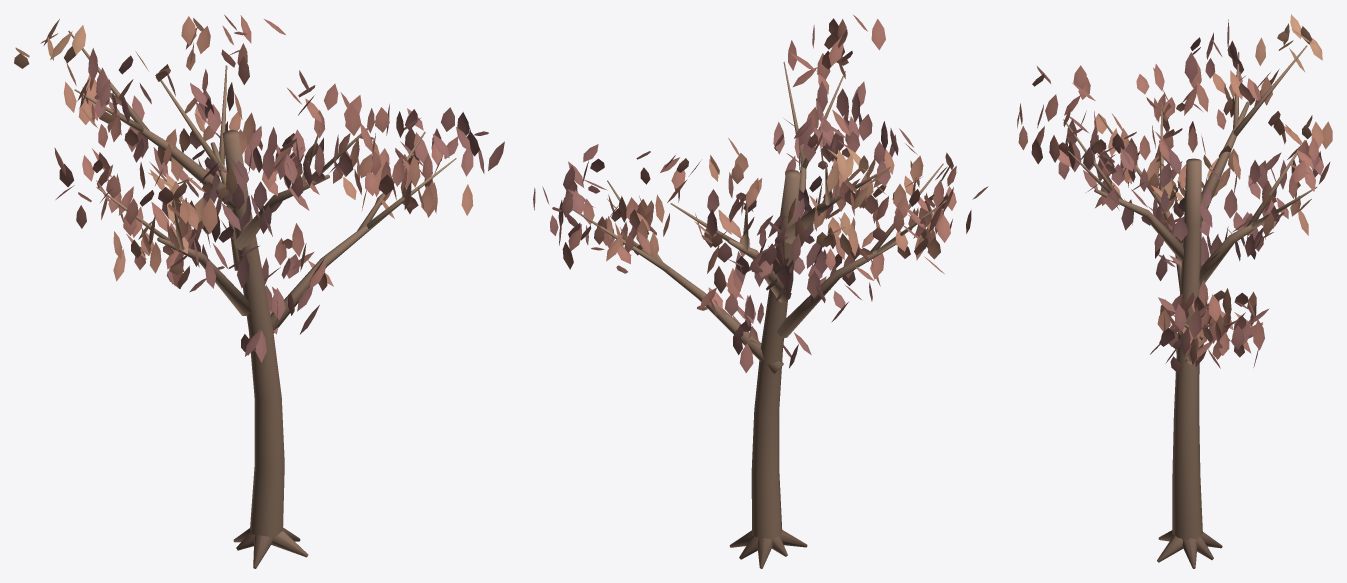
File: tree_3d_06_red.glb
3 renders of one model, left to right at view 1: azimuth 30°, elevation 25°; view 2: azimuth 150°, elevation 25°; view 3: azimuth 270°, elevation 25°, orthographic. The views are drawn at different scales.
Parts seen in each view (by area): view 1: tree_3d_06_red_foliage, tree_3d_06_red_wood; view 2: tree_3d_06_red_foliage, tree_3d_06_red_wood; view 3: tree_3d_06_red_foliage, tree_3d_06_red_wood.
Boxes of the visible parts, x1,y1,x2,y2 form: tree_3d_06_red_foliage: (14, 14, 504, 362); tree_3d_06_red_wood: (68, 30, 456, 568); tree_3d_06_red_foliage: (533, 15, 988, 372); tree_3d_06_red_wood: (572, 61, 946, 568); tree_3d_06_red_foliage: (1017, 14, 1332, 373); tree_3d_06_red_wood: (1063, 45, 1317, 568).
Size of the model in its own units: 7.18 by 8.29 by 4.97.
